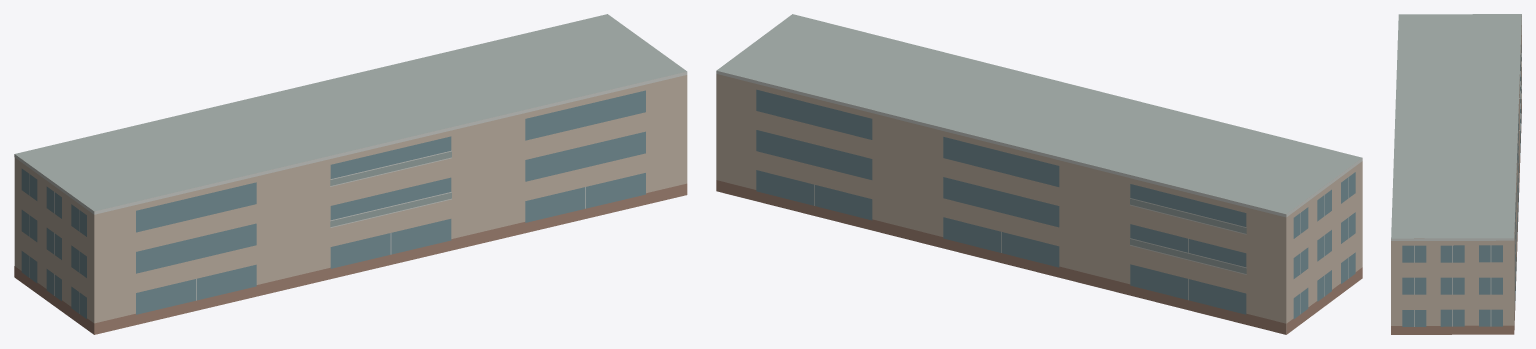
File: survey-upis-32628797.glb
3 views of the same model, side by side, from view 1: azimuth 30°, elevation 25°; view 2: azimuth 150°, elevation 25°; view 3: azimuth 270°, elevation 25° (orthographic). The views are drawn at different scales.
Visible parts, largest first — view 1: survey-upis-32628797.tmp; view 2: survey-upis-32628797.tmp; view 3: survey-upis-32628797.tmp.
Part boxes in pixels (x1,y1,x2,y2): survey-upis-32628797.tmp: (14, 14, 687, 334); survey-upis-32628797.tmp: (716, 14, 1362, 334); survey-upis-32628797.tmp: (1391, 14, 1521, 334).
Bounding box in the file's own units: 45.71 × 9.15 × 11.26.
